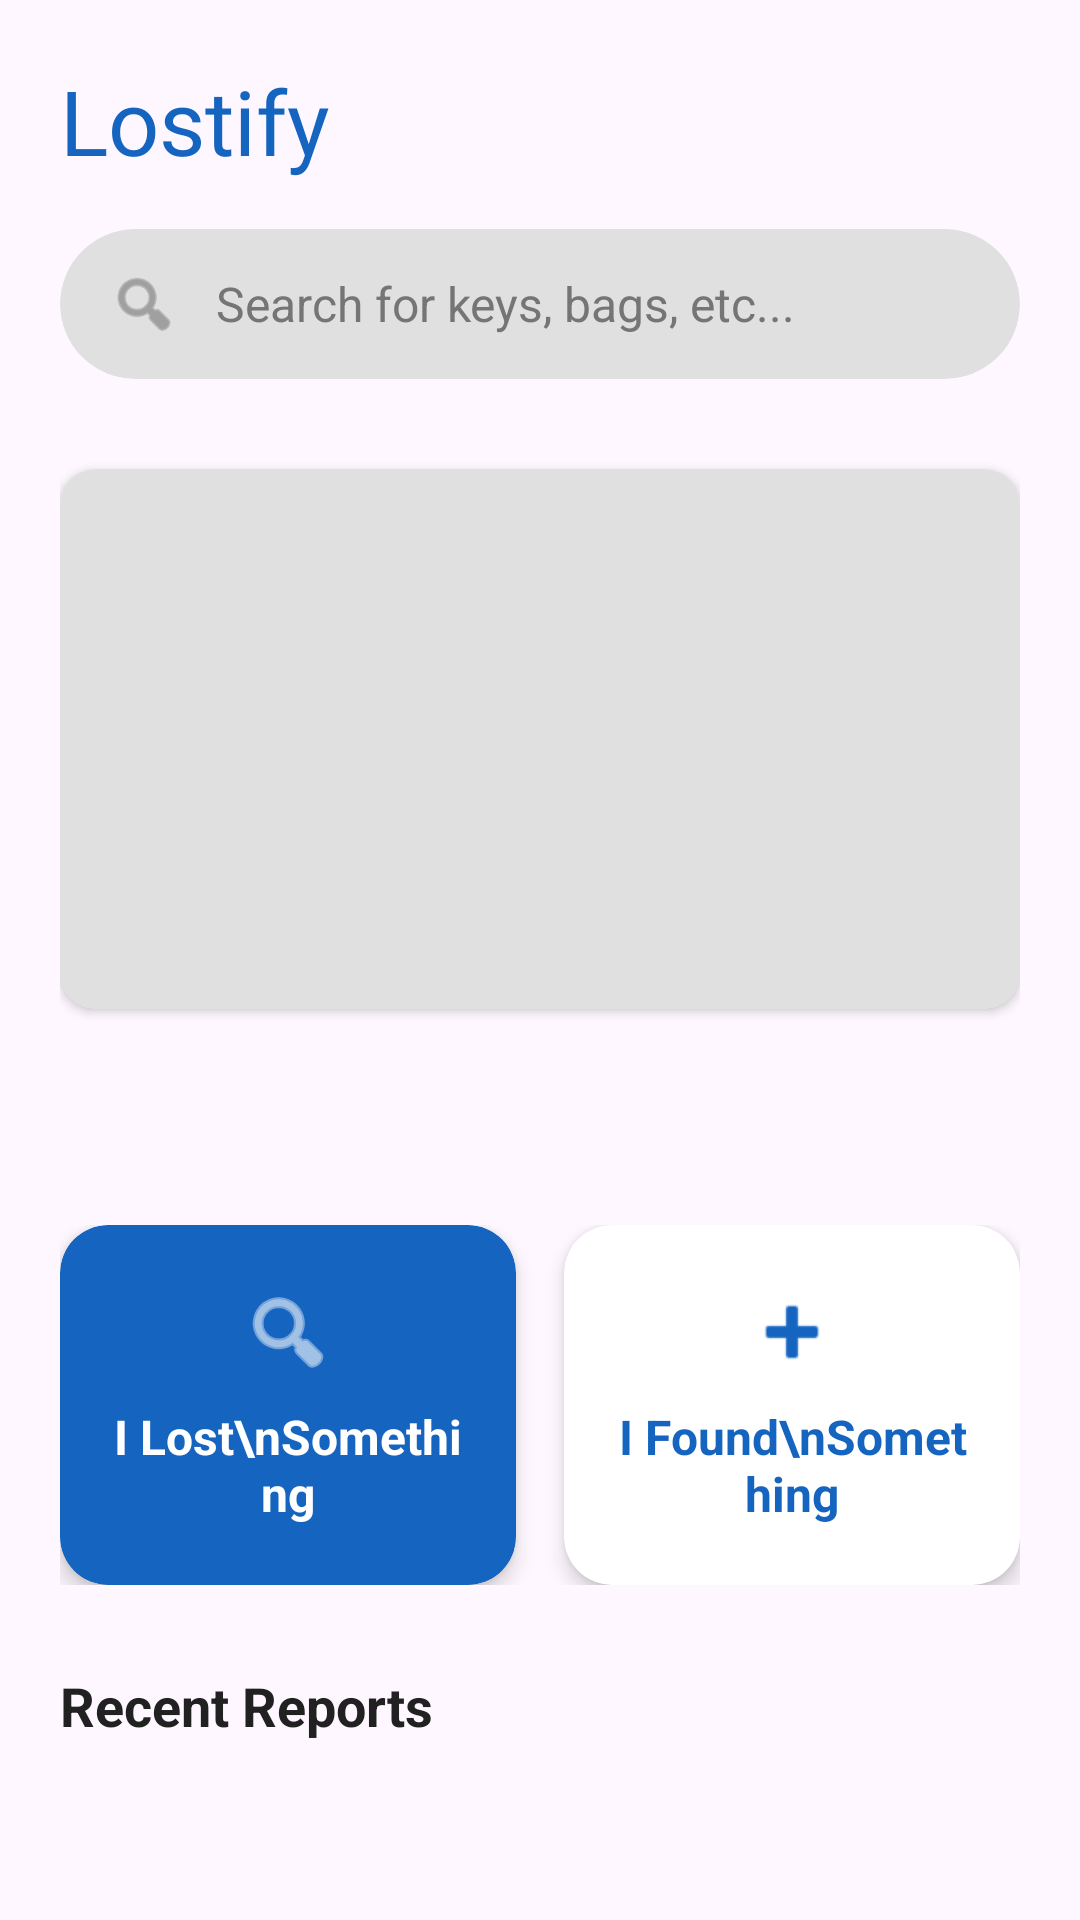

Point at icon controls on the screen. Image size 1080w x 1920h, points as point (x, y).
add: point (792, 1332)
